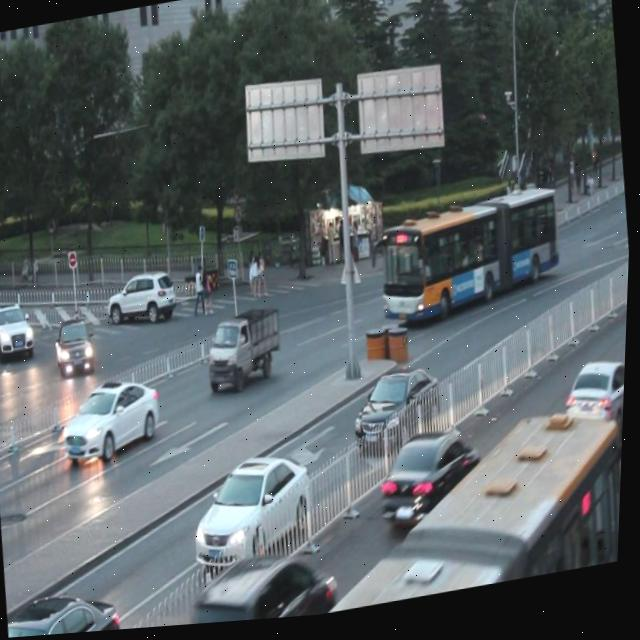bus: (206, 312, 286, 395)
car: (188, 450, 322, 575), (191, 548, 340, 628), (377, 431, 486, 536), (58, 372, 167, 468), (352, 366, 447, 456), (8, 577, 128, 638), (561, 361, 628, 443), (111, 270, 177, 330), (54, 317, 99, 377), (0, 298, 38, 357)
van: (303, 400, 627, 620), (377, 194, 565, 328)
